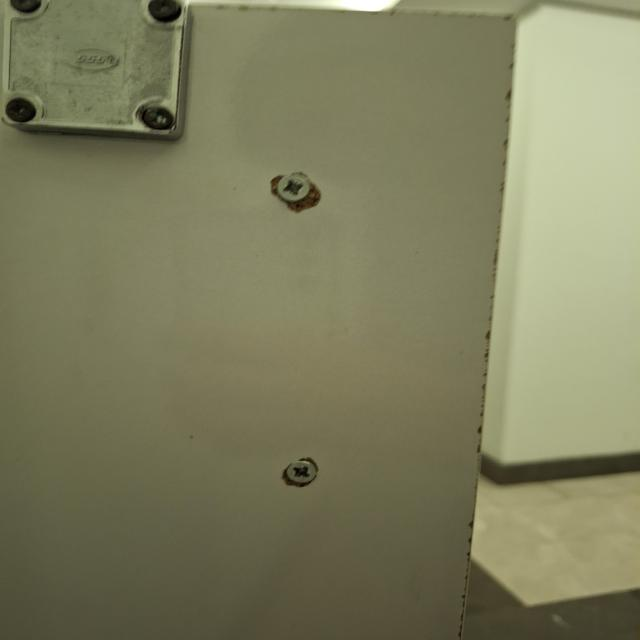Pozidriv: (274, 172, 315, 206), (288, 460, 317, 484)
